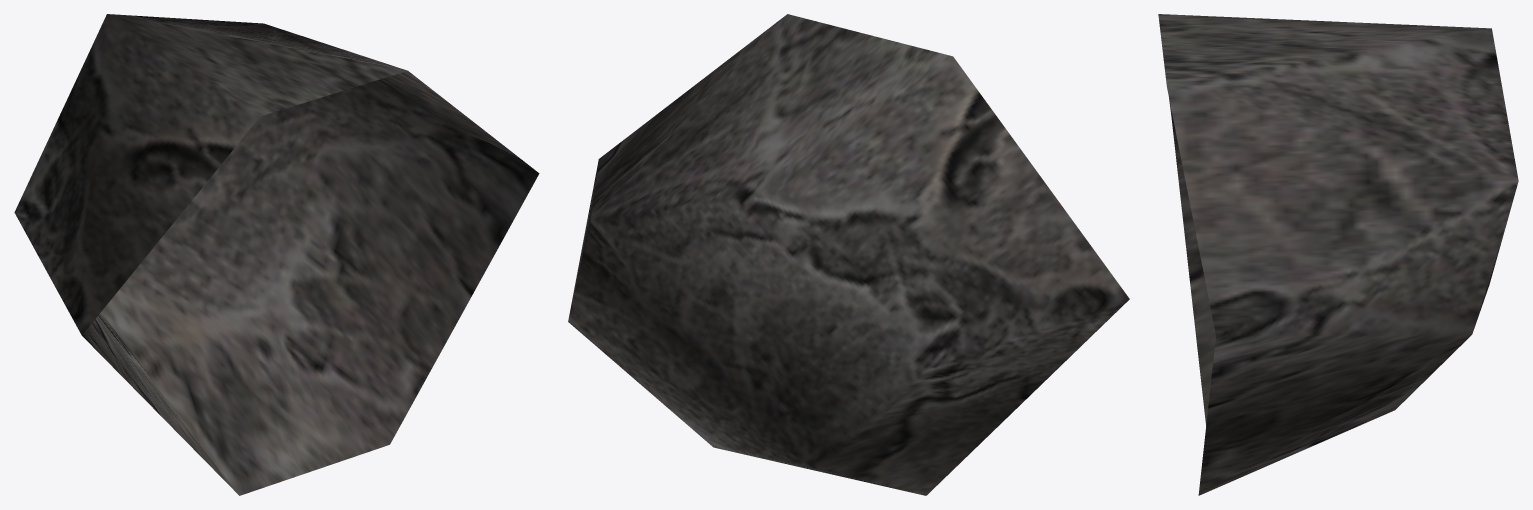
File: GSW_04.fbx
3 renders of one model, left to right at view 1: azimuth 30°, elevation 25°; view 2: azimuth 150°, elevation 25°; view 3: azimuth 270°, elevation 25°, orthographic. The views are drawn at different scales.
Visible parts, largest first — view 1: GSW_04; view 2: GSW_04; view 3: GSW_04.
Boxes of the visible parts, bbox=[...] form: GSW_04: bbox=[14, 14, 539, 495]; GSW_04: bbox=[568, 14, 1129, 495]; GSW_04: bbox=[1158, 14, 1518, 495].
Bounding box in the file's own units: 2.36 × 1.9 × 1.44.
